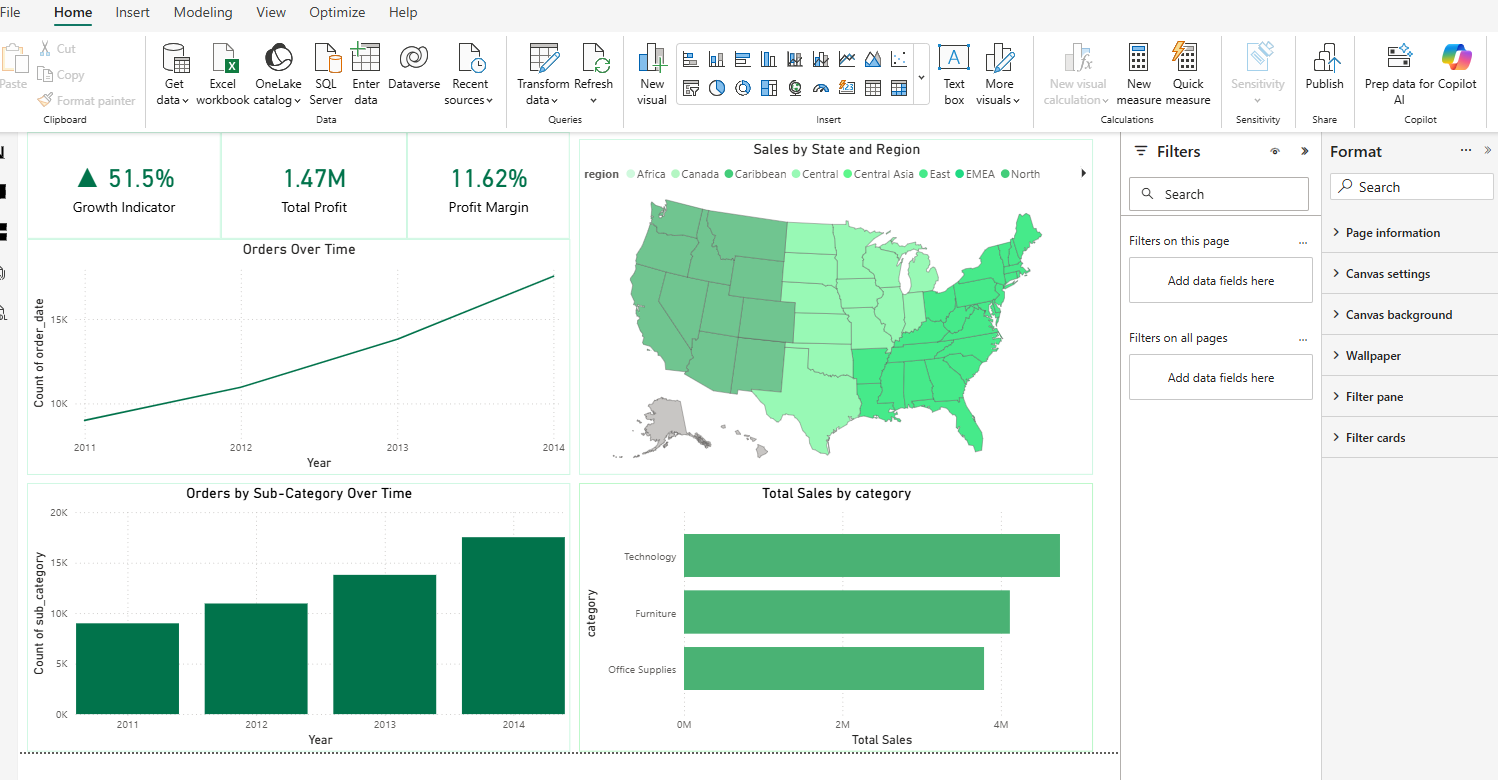

The page's visual inventory and layout, read from the dashboard file:
{"tool":"powerbi","page":{"name":"Page 1","canvas":[1280,720],"ordinal":0},"visuals":[{"type":"card","fields":{"Values":["SuperStoreOrders.Total Sales"]},"box":[10,0,175.6,123.7],"z":0},{"type":"card","fields":{"Values":["SuperStoreOrders.Total Profit"]},"box":[185.6,0,148.7,123.7],"z":1},{"type":"card","fields":{"Values":["SuperStoreOrders.Profit Margin"]},"box":[334.2,0,161.6,123.7],"z":2},{"type":"card","fields":{"Values":["SuperStoreOrders.Sales Growth %"]},"box":[495.8,0,157.6,123.7],"z":3},{"type":"lineChart","fields":{"Category":["SuperStoreOrders.order_date.Variation.Date Hierarchy.Year","SuperStoreOrders.order_date.Variation.Date Hierarchy.Quarter","SuperStoreOrders.order_date.Variation.Date Hierarchy.Month","SuperStoreOrders.order_date.Variation.Date Hierarchy.Day"],"Y":["CountNonNull(SuperStoreOrders.order_date)"]},"box":[10,123.7,630.5,274.4],"z":4},{"type":"columnChart","fields":{"Category":["SuperStoreOrders.order_date.Variation.Date Hierarchy.Year","SuperStoreOrders.order_date.Variation.Date Hierarchy.Quarter","SuperStoreOrders.order_date.Variation.Date Hierarchy.Month","SuperStoreOrders.order_date.Variation.Date Hierarchy.Day"],"Y":["CountNonNull(SuperStoreOrders.sub_category)"]},"box":[10,408,631,274],"z":5},{"type":"clusteredBarChart","fields":{"Category":["SuperStoreOrders.category"],"Y":["SuperStoreOrders.Total Sales"]},"box":[662.1,360.1,586.6,321.7],"z":7},{"type":"shapeMap","fields":{"Category":["SuperStoreOrders.state"],"Series":["SuperStoreOrders.region"],"Value":["Sum(SuperStoreOrders.sales)"]},"box":[662.4,37.9,586.6,322.2],"z":8}]}

Visuals, with their boxes on the page's 1280x720 design canvas (x1, y1, x2, y2). These are canvas units, not pixel positions in the 1498x780 screenshot, which may show the page scaled, cropped or inside an application window:
card - SuperStoreOrders.Total Sales: Rect(10, 0, 186, 124)
card - SuperStoreOrders.Total Profit: Rect(186, 0, 334, 124)
card - SuperStoreOrders.Profit Margin: Rect(334, 0, 496, 124)
card - SuperStoreOrders.Sales Growth %: Rect(496, 0, 653, 124)
lineChart - SuperStoreOrders.order_date.Variation.Date Hierarchy.Year x SuperStoreOrders.order_date.Variation.Date Hierarchy.Quarter: Rect(10, 124, 640, 398)
columnChart - SuperStoreOrders.order_date.Variation.Date Hierarchy.Year x SuperStoreOrders.order_date.Variation.Date Hierarchy.Quarter: Rect(10, 408, 641, 682)
clusteredBarChart - SuperStoreOrders.category x SuperStoreOrders.Total Sales: Rect(662, 360, 1249, 682)
shapeMap - SuperStoreOrders.state x SuperStoreOrders.region: Rect(662, 38, 1249, 360)
